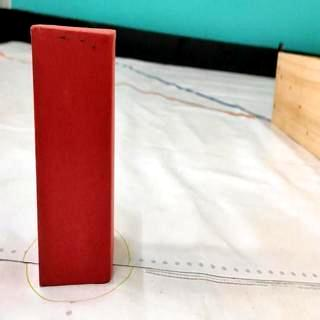redbox: (30, 24, 116, 288)
